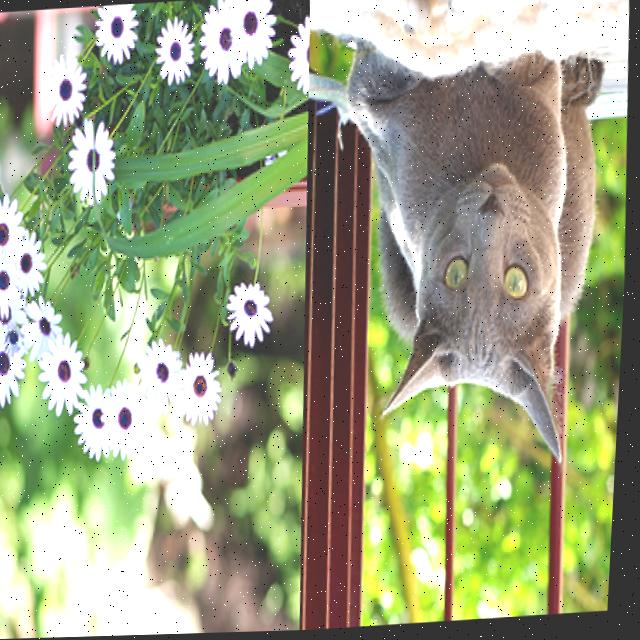Russian Blue: (319, 4, 622, 486)
